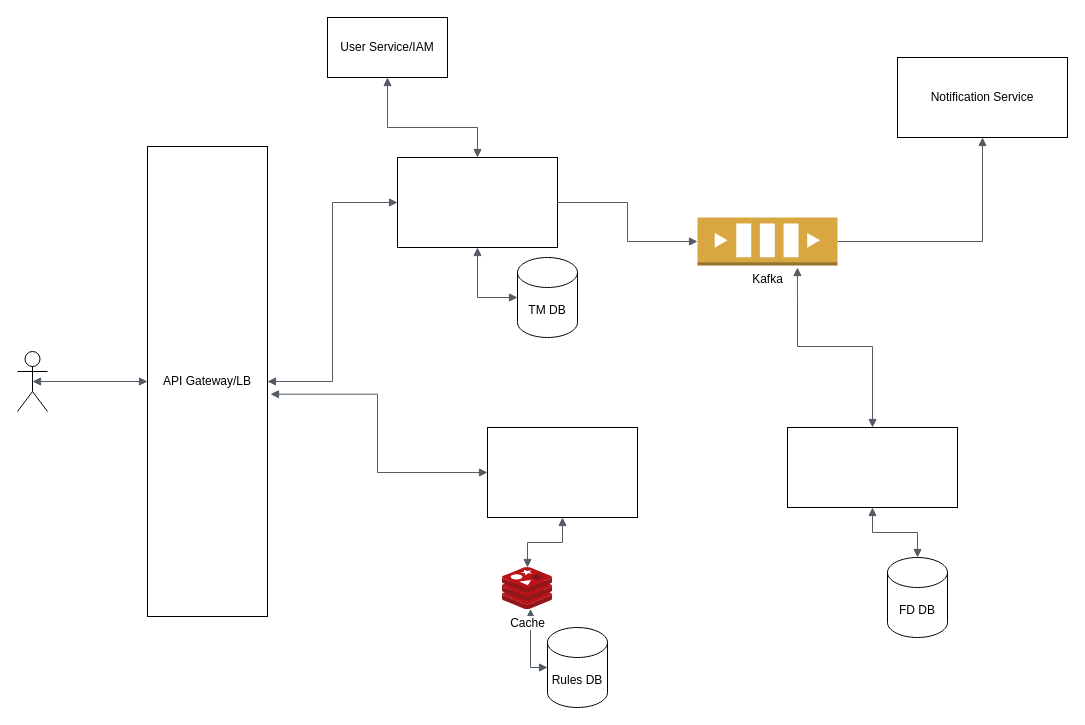
Some shapes in this 1085 by 725 pixel diagram are drawn without their labels. Each missing label, with the centre of its shape:
Actor: point (32, 381)
Fraud Detection Service: point (872, 467)
Rule Engine Service: point (562, 472)
Transaction Management Service: point (477, 202)
